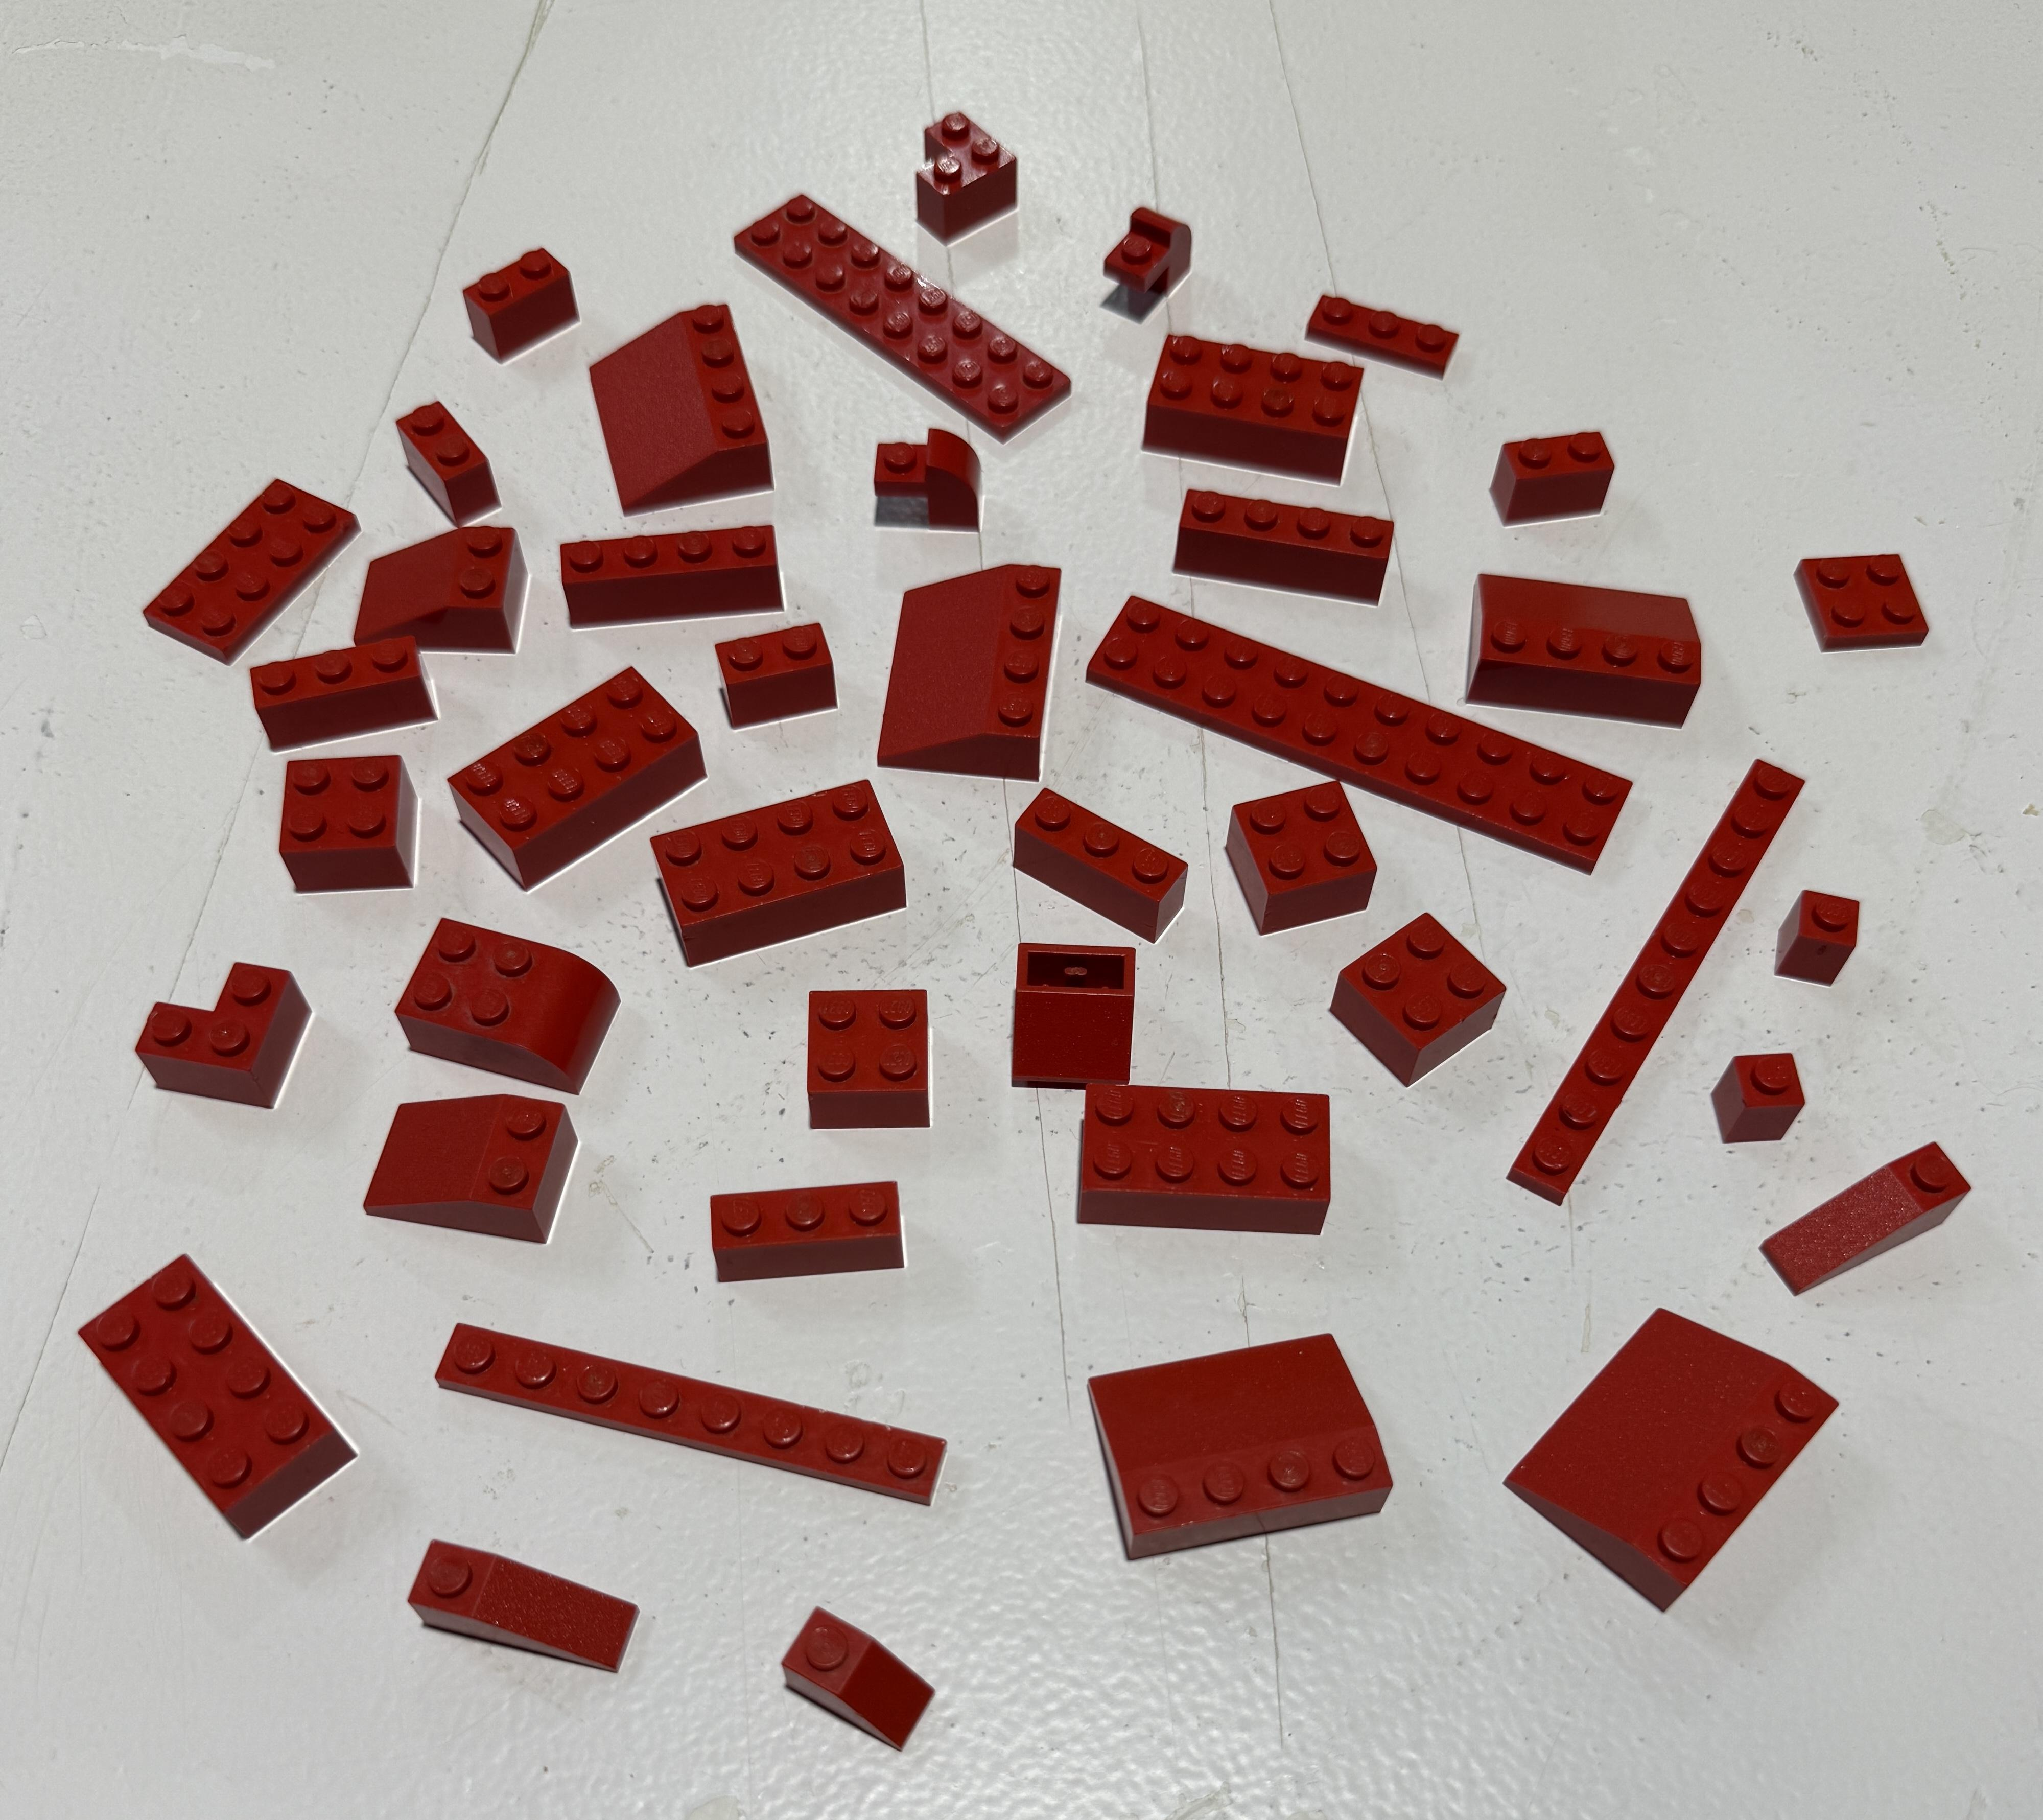Special_02: (343, 1079, 606, 1254), (339, 502, 552, 668)
brick_1x1: (1767, 864, 1892, 1015), (1699, 1031, 1818, 1163)
brick_1x2: (668, 599, 868, 748), (1463, 409, 1634, 531), (371, 390, 515, 524), (455, 225, 587, 371)
brick_1x3: (223, 601, 474, 757), (984, 769, 1200, 949), (682, 1151, 920, 1295)
brick_1x4: (1168, 474, 1412, 608), (541, 506, 796, 631)
brick_2x2: (1321, 899, 1520, 1094), (1214, 757, 1384, 943), (251, 736, 439, 901), (783, 970, 961, 1138)
brick_2x4: (58, 1237, 378, 1560), (446, 639, 713, 901), (1059, 1051, 1382, 1267), (620, 762, 924, 984), (1130, 318, 1374, 497)
plate_2x2: (1781, 516, 1939, 662)
